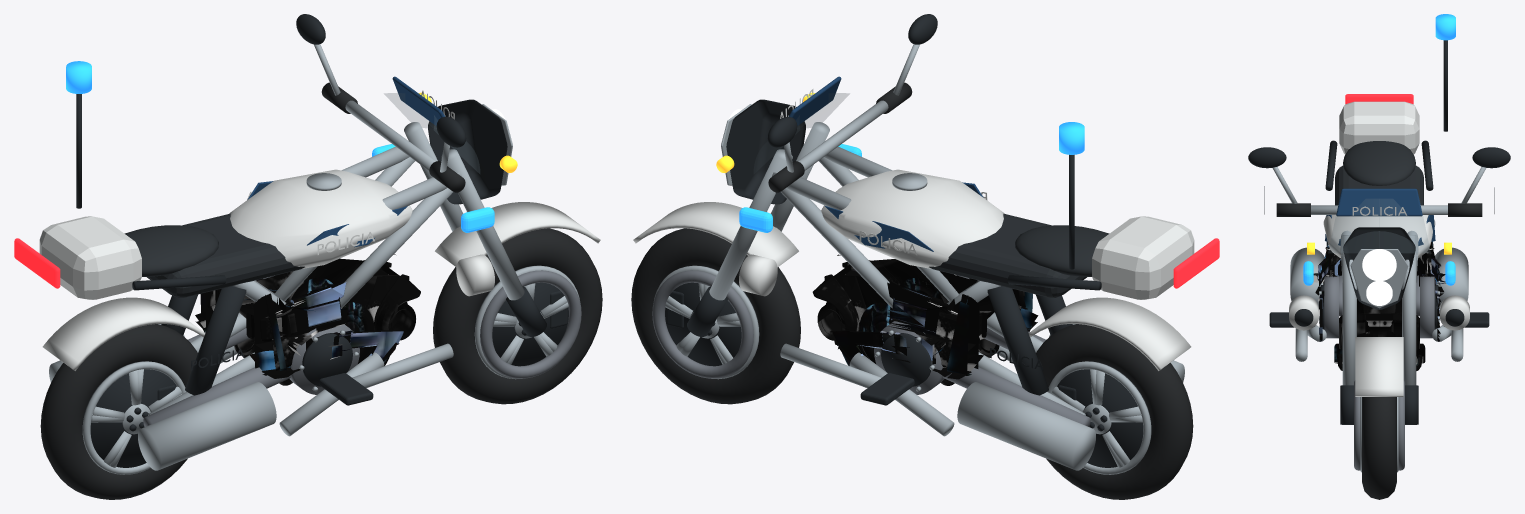
The model's file is shqiponja_bike.glb.
The picture shows the model from 3 angles, left to right: view 1: azimuth 30°, elevation 25°; view 2: azimuth 150°, elevation 25°; view 3: azimuth 270°, elevation 25°; orthographic projection. The views are drawn at different scales.
Parts seen in each view (by area): view 1: Batch_Pearl white paint, Batch_Machined aluminium.002, Batch_Graphite.002, Licensed motorcycle drivetrain detail, Tire_F, Tire_R, Batch_Black upholstery, Batch_Brake rotor.002, Batch_Machined aluminium.001, Batch_Graphite.001, Batch_Graphite, Batch_Machined aluminium (+5 smaller); view 2: Batch_Pearl white paint, Batch_Machined aluminium.002, Batch_Graphite.002, Licensed motorcycle drivetrain detail, Tire_F, Tire_R, Batch_Black upholstery, Batch_Brake rotor.002, Batch_Machined aluminium.001, Batch_Graphite.001, Batch_Graphite, Batch_Machined aluminium (+5 smaller); view 3: Batch_Pearl white paint, Batch_Machined aluminium.002, Batch_Graphite.002, Licensed motorcycle drivetrain detail, Batch_Black upholstery, Curved clear windscreen, Tire_F, Batch_Brake rotor.002, Batch_Deep blue enamel, Batch_Headlamp LED, Batch_Blue emergency lens, Batch_Tire rubber (+2 smaller).
Part boxes in pixels (box(x1,y1,x2,y2)): Batch_Pearl white paint: box(39, 90, 600, 370); Batch_Machined aluminium.002: box(49, 44, 524, 470); Batch_Graphite.002: box(76, 14, 546, 405); Licensed motorcycle drivetrain detail: box(195, 254, 420, 385); Tire_F: box(433, 228, 602, 404); Tire_R: box(40, 324, 197, 499); Batch_Black upholstery: box(125, 213, 304, 297); Batch_Brake rotor.002: box(143, 270, 581, 426); Batch_Machined aluminium.001: box(82, 361, 186, 474); Batch_Graphite.001: box(82, 361, 176, 467); Batch_Graphite: box(474, 265, 568, 366); Batch_Machined aluminium: box(474, 265, 579, 379); Batch_Pearl white paint: box(633, 89, 1194, 370); Batch_Machined aluminium.002: box(709, 44, 1184, 470); Batch_Graphite.002: box(687, 14, 1101, 405); Licensed motorcycle drivetrain detail: box(812, 254, 1038, 385); Tire_F: box(631, 228, 800, 404); Tire_R: box(1036, 324, 1193, 499); Batch_Black upholstery: box(929, 213, 1108, 297); Batch_Brake rotor.002: box(652, 270, 1090, 426); Batch_Machined aluminium.001: box(1047, 361, 1151, 474); Batch_Graphite.001: box(1057, 361, 1151, 467); Batch_Graphite: box(665, 265, 759, 366); Batch_Machined aluminium: box(654, 265, 759, 379); Batch_Pearl white paint: box(1289, 101, 1469, 396); Batch_Machined aluminium.002: box(1272, 166, 1486, 385); Batch_Graphite.002: box(1248, 40, 1510, 424); Licensed motorcycle drivetrain detail: box(1313, 241, 1445, 370); Batch_Black upholstery: box(1335, 141, 1423, 205); Curved clear windscreen: box(1328, 199, 1430, 252); Tire_F: box(1362, 397, 1396, 499); Batch_Brake rotor.002: box(1324, 275, 1434, 470); Batch_Deep blue enamel: box(1325, 188, 1435, 245); Batch_Headlamp LED: box(1362, 249, 1396, 305); Batch_Blue emergency lens: box(1303, 14, 1455, 285); Batch_Tire rubber: box(1276, 203, 1482, 216).
Bounding box in the file's own units: 2.28 × 1.54 × 1.15.
13 materials, 1 textured.
